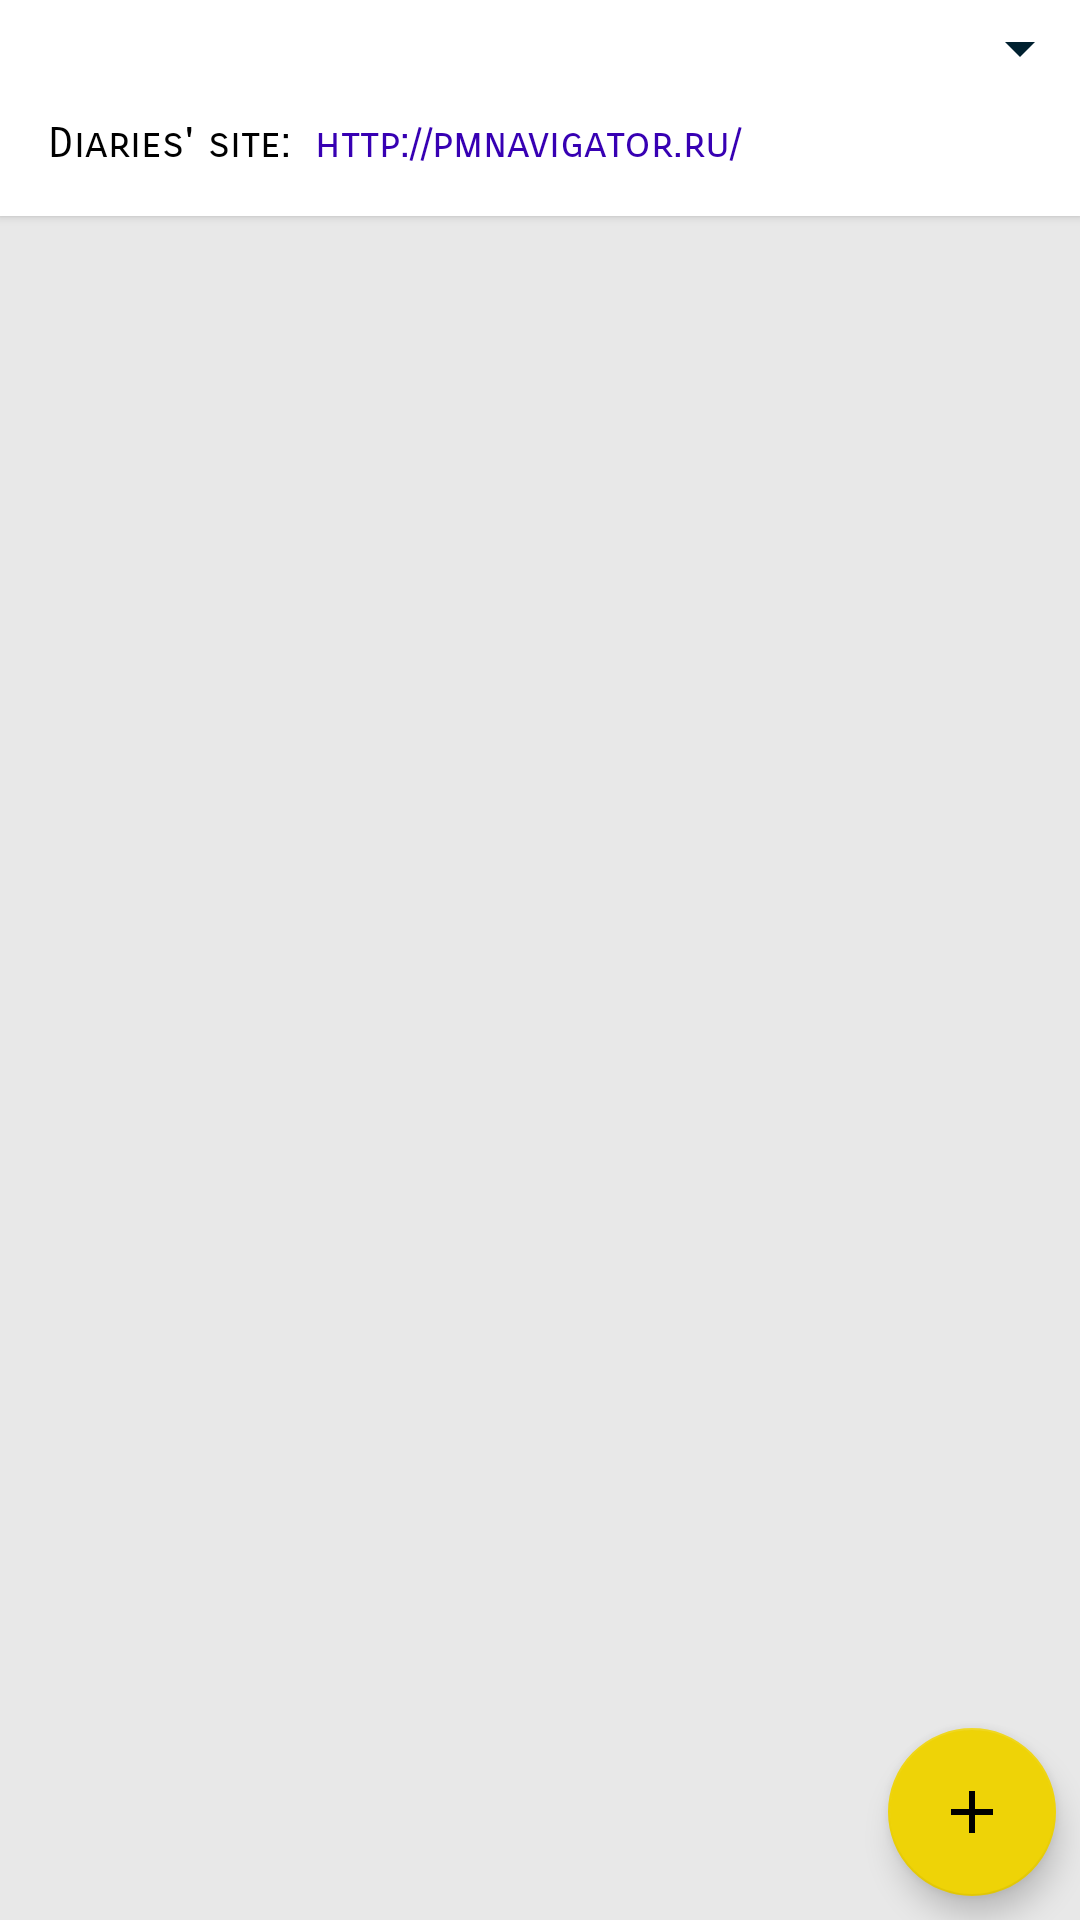

Named icons in this screenshot (1080*1920) and their bounding boxes, box(x1, y1, x2, y2):
add: box(888, 1728, 1056, 1896)
Drop Down Arrow: box(1005, 42, 1035, 57)
